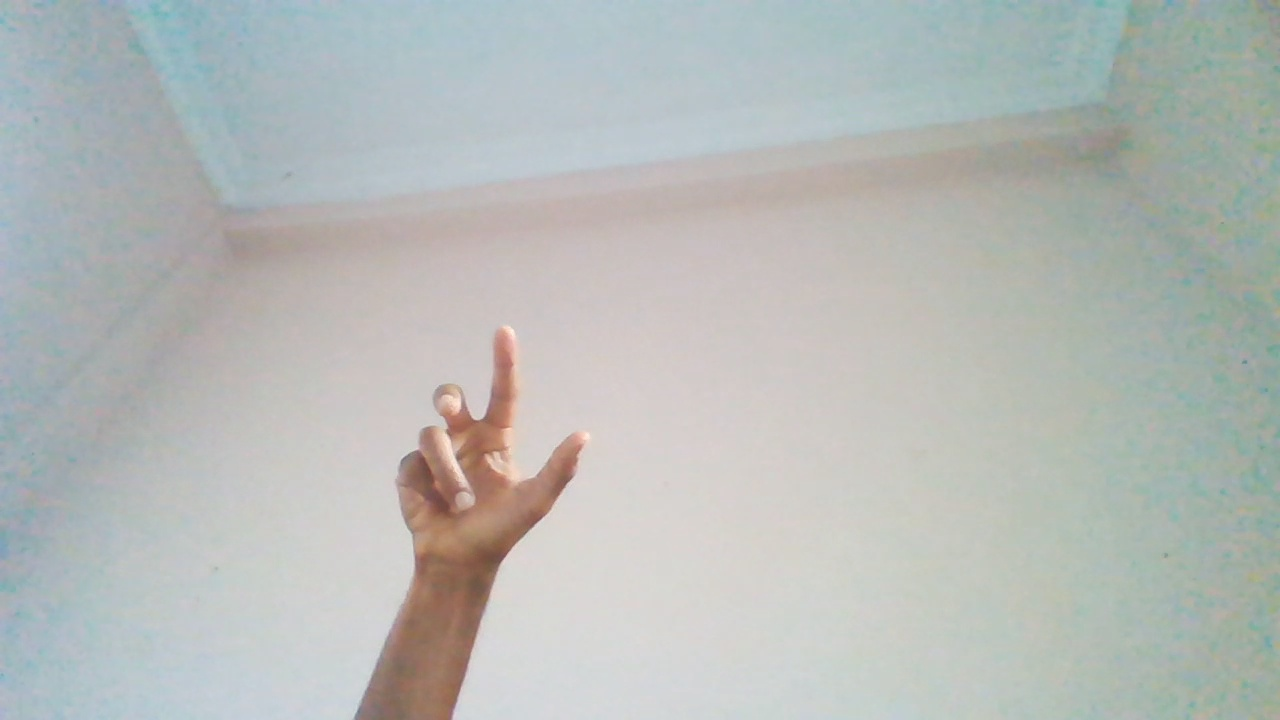hhe: (398, 328, 584, 647)
